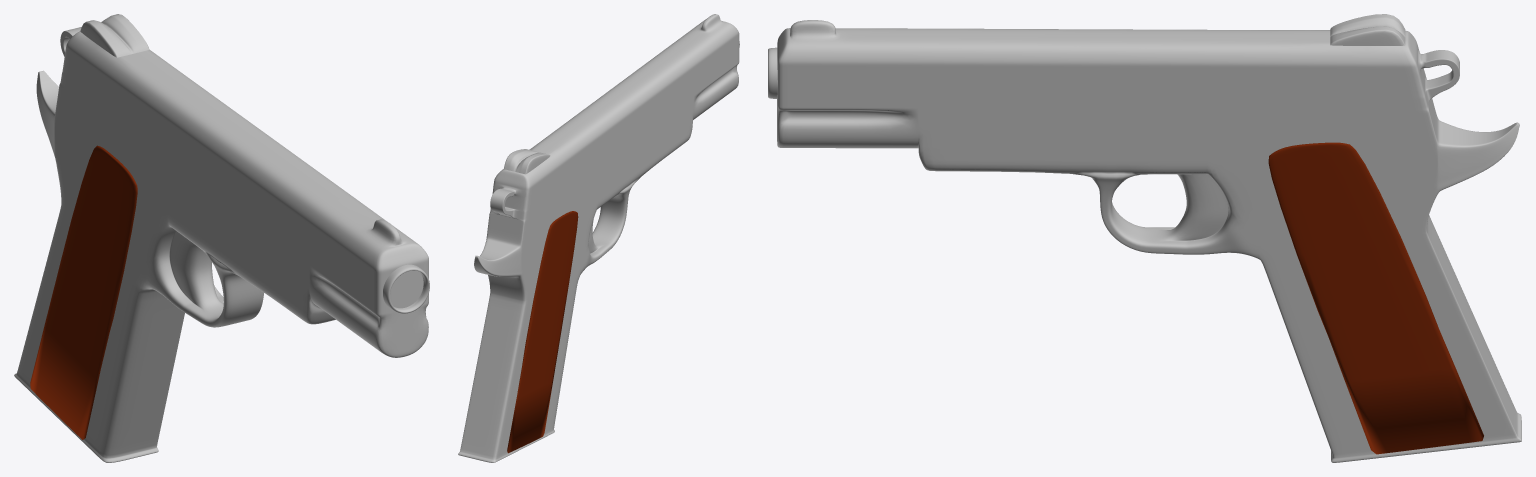
The model's file is Pistol-MEUSOC.fbx.
The picture shows the model from 3 angles, left to right: view 1: azimuth 30°, elevation 25°; view 2: azimuth 150°, elevation 25°; view 3: azimuth 270°, elevation 25°; orthographic projection. The views are drawn at different scales.
Visible parts, largest first — view 1: Pistol; view 2: Pistol; view 3: Pistol.
Boxes of the visible parts, bbox=[...] form: Pistol: bbox=[14, 14, 429, 462]; Pistol: bbox=[458, 14, 739, 462]; Pistol: bbox=[768, 14, 1521, 462].
Size of the model in its own units: 81.13 by 578 by 920.
